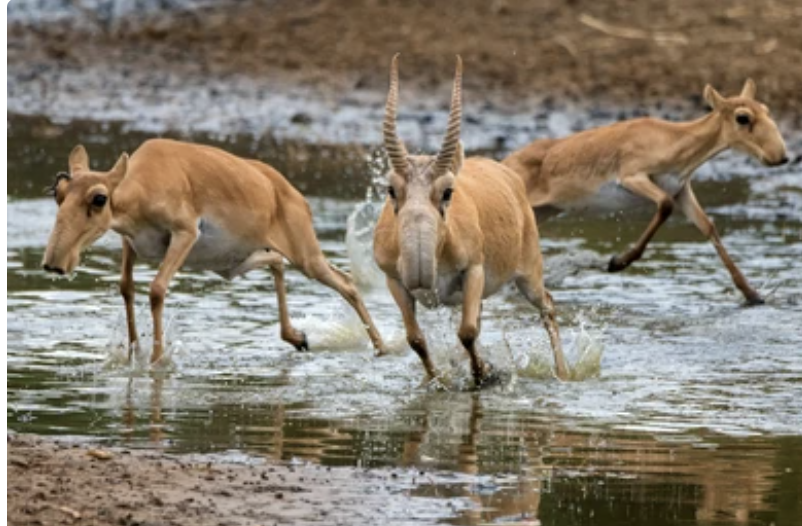saiga: (343, 52, 580, 396)
